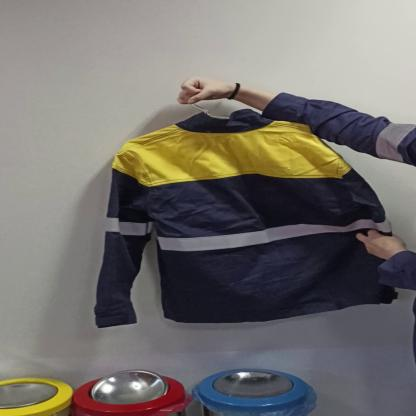C_eletrica: (96, 111, 404, 328)
